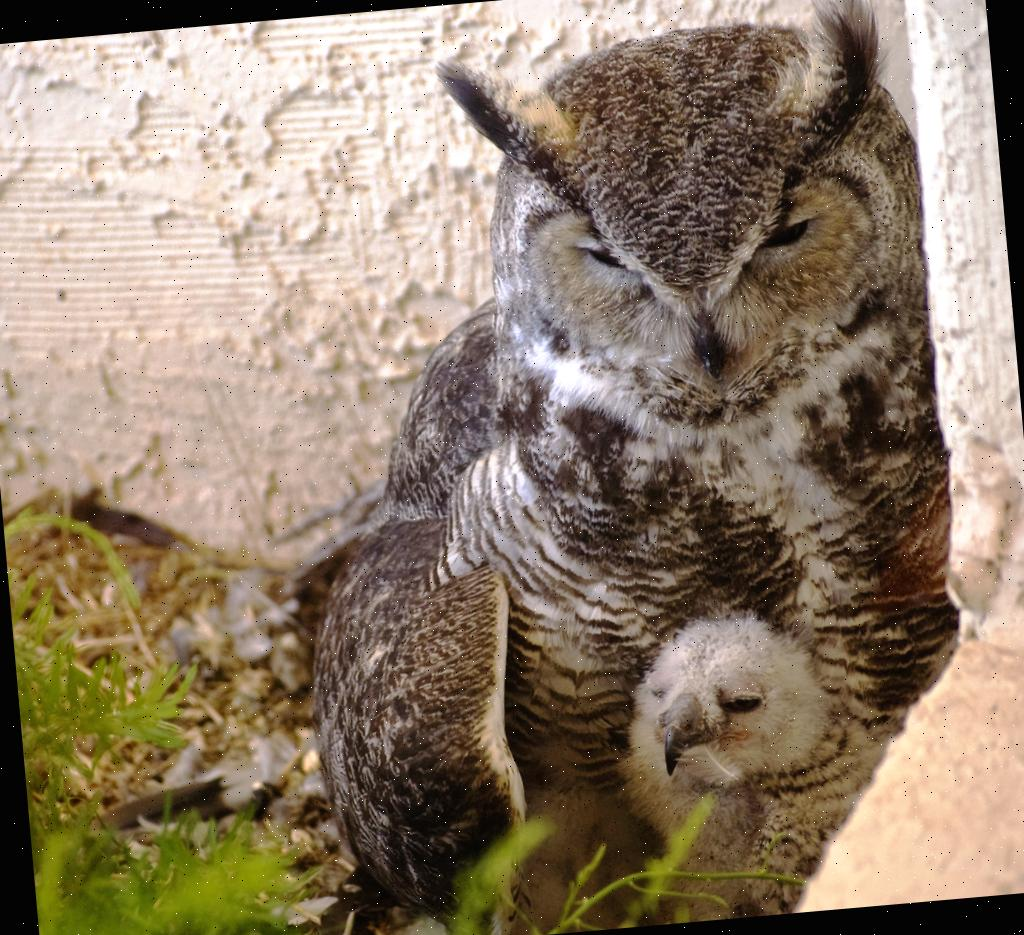Owl: (231, 0, 1024, 935), (611, 590, 856, 868)
